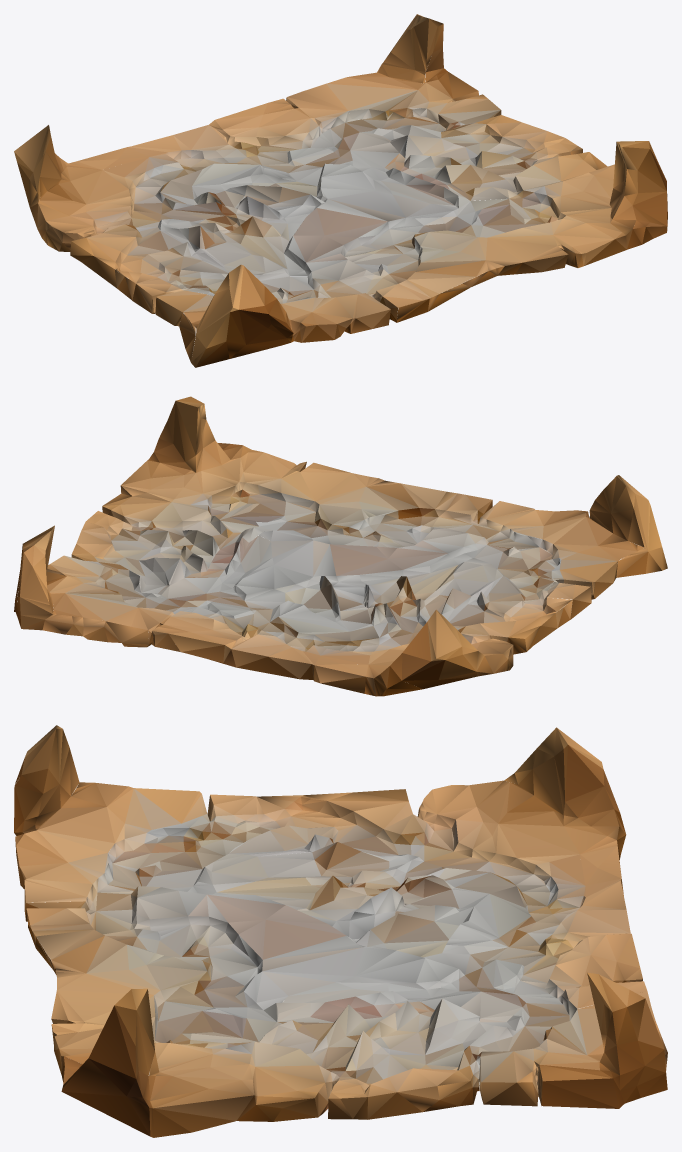
The model's file is building-expedition-map.glb.
3 views of the same model, one above another, from view 1: azimuth 30°, elevation 25°; view 2: azimuth 150°, elevation 25°; view 3: azimuth 270°, elevation 25° (orthographic). The views are drawn at different scales.
Visible parts, largest first — view 1: 0_expedition-map; view 2: 0_expedition-map; view 3: 0_expedition-map.
Boxes of the visible parts, x1,y1,x2,y2 form: 0_expedition-map: (14,14,667,367); 0_expedition-map: (14,396,667,696); 0_expedition-map: (14,725,667,1137).
Bounding box in the file's own units: 0.8 × 0.1386 × 0.6823.
